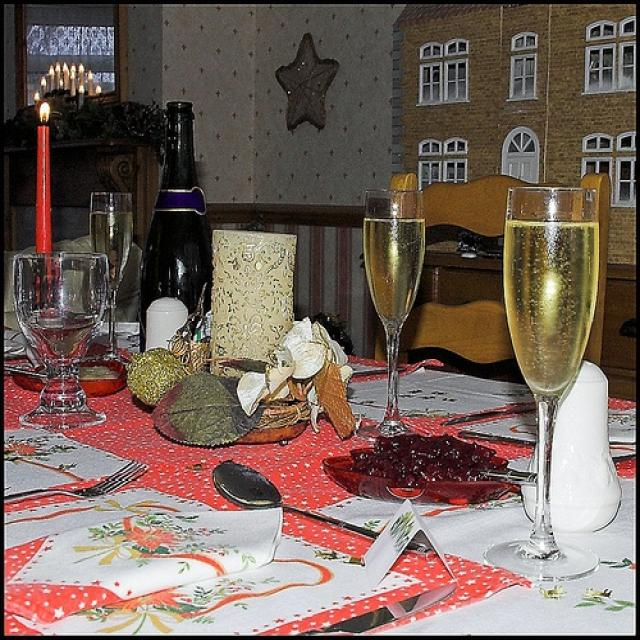bottle: (139, 101, 215, 355)
chair: (376, 172, 613, 365)
diningtable: (3, 321, 636, 637)
